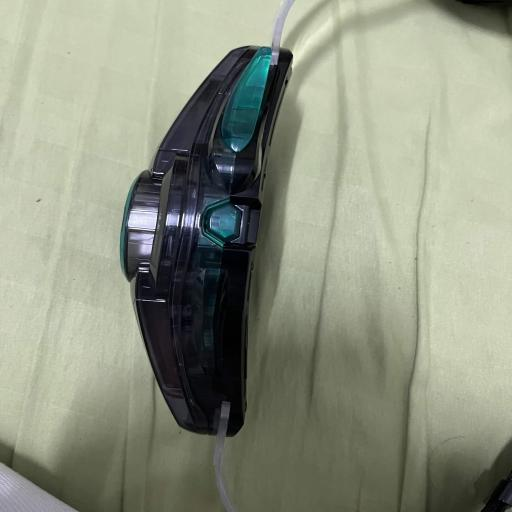zeztzdriver: (120, 32, 292, 438)
